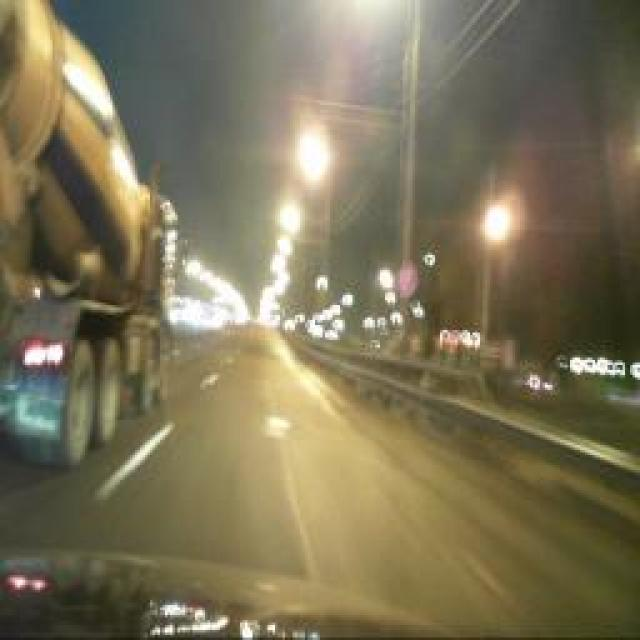sign: (397, 269, 415, 296)
